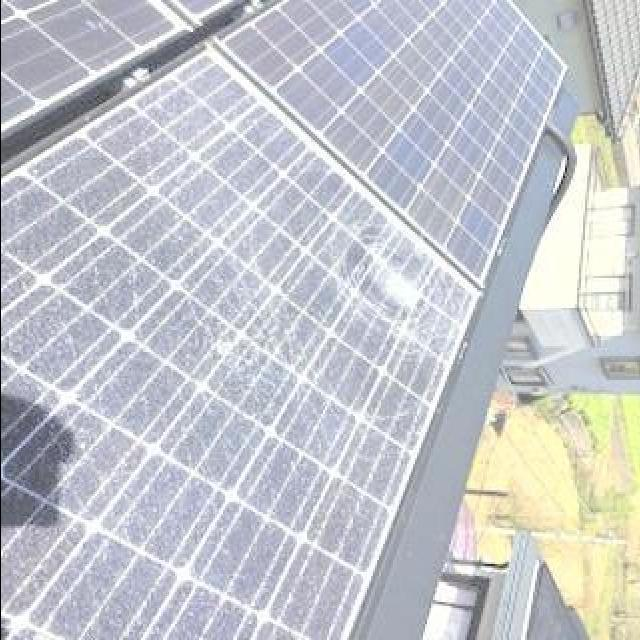cracked: (0, 72, 470, 640)
